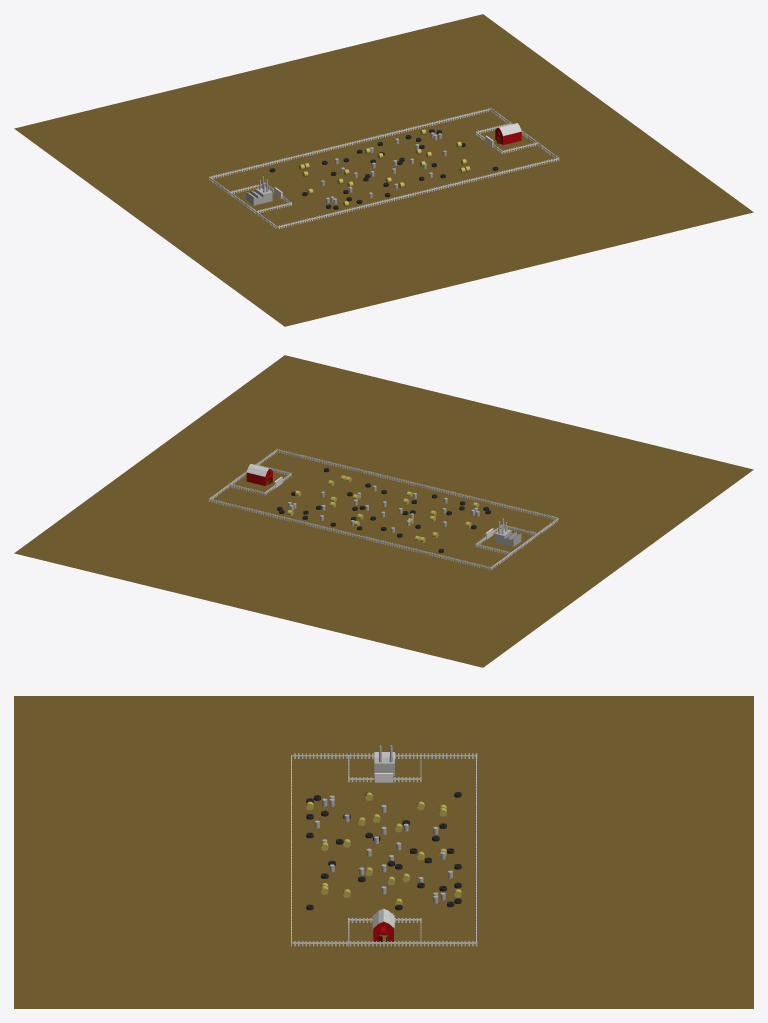
Rendered from Map.fbx.
3 views of the same model, one above another, from view 1: azimuth 30°, elevation 25°; view 2: azimuth 150°, elevation 25°; view 3: azimuth 270°, elevation 25° (orthographic). The views are drawn at different scales.
Parts seen in each view (by area): view 1: Terrain, Barrieres, Obstacles; view 2: Terrain, Barrieres, Obstacles; view 3: Terrain, Obstacles, Barrieres, Ferme.
Part boxes in pixels (box(x1,y1,x2,y2)): Terrain: box(14, 14, 753, 326); Barrieres: box(209, 107, 559, 229); Obstacles: box(269, 129, 498, 209); Terrain: box(14, 355, 753, 667); Barrieres: box(208, 449, 558, 570); Obstacles: box(277, 468, 490, 552); Terrain: box(14, 696, 753, 1008); Obstacles: box(306, 792, 461, 910); Barrieres: box(291, 753, 477, 946); Ferme: box(372, 908, 394, 942).
Bounding box in the file's own units: 200 × 9.78 × 200.
